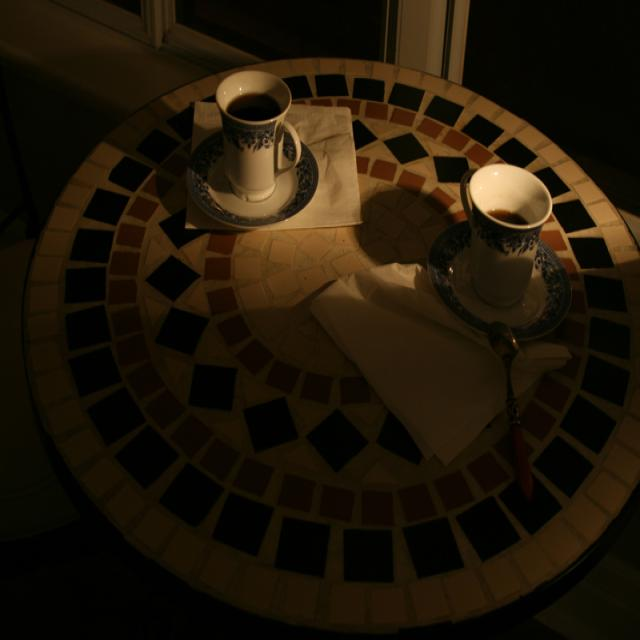Cup: (205, 54, 316, 236), (450, 165, 554, 354)
Table: (28, 75, 640, 640)
